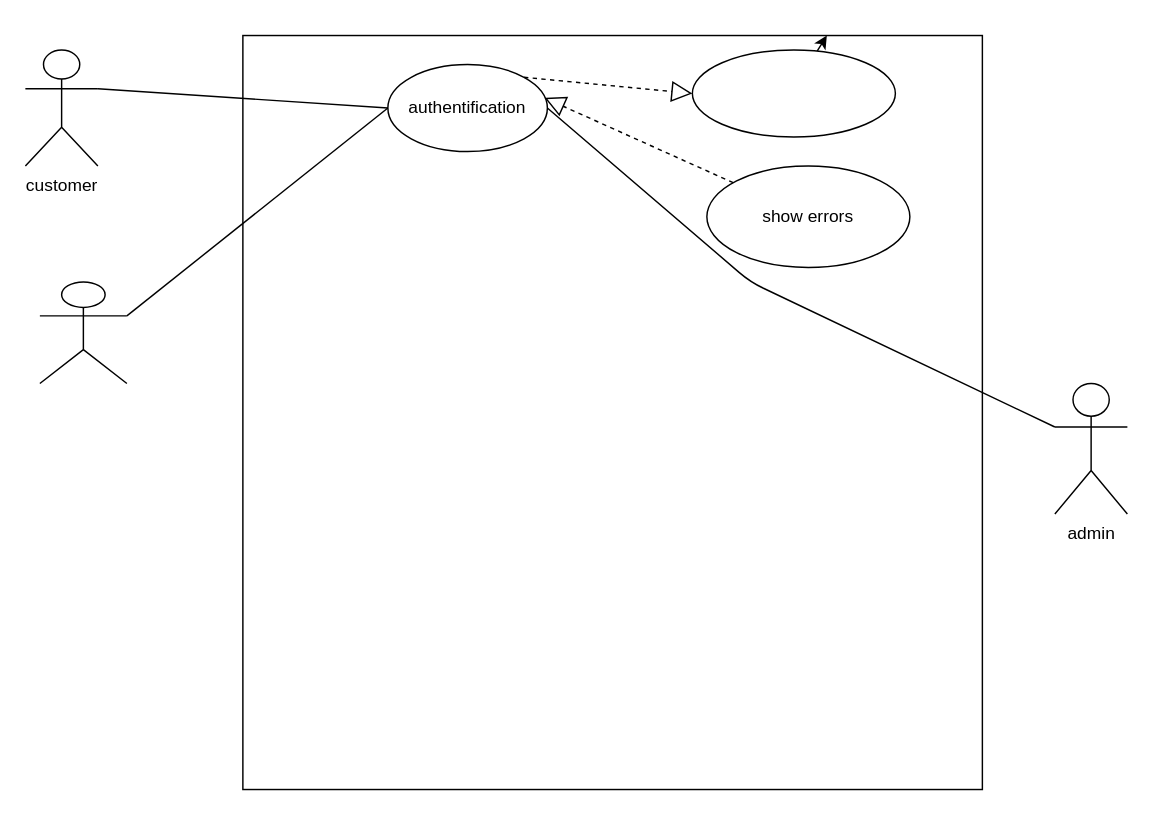
This 1153x815 diagram has some shape labels left out. The shapes that lost their labels are listed below. From the top down, each one's centre as x and y in pixels, then its label:
At pixel 793 93: "verification".
At pixel 82 332: "influencer".
